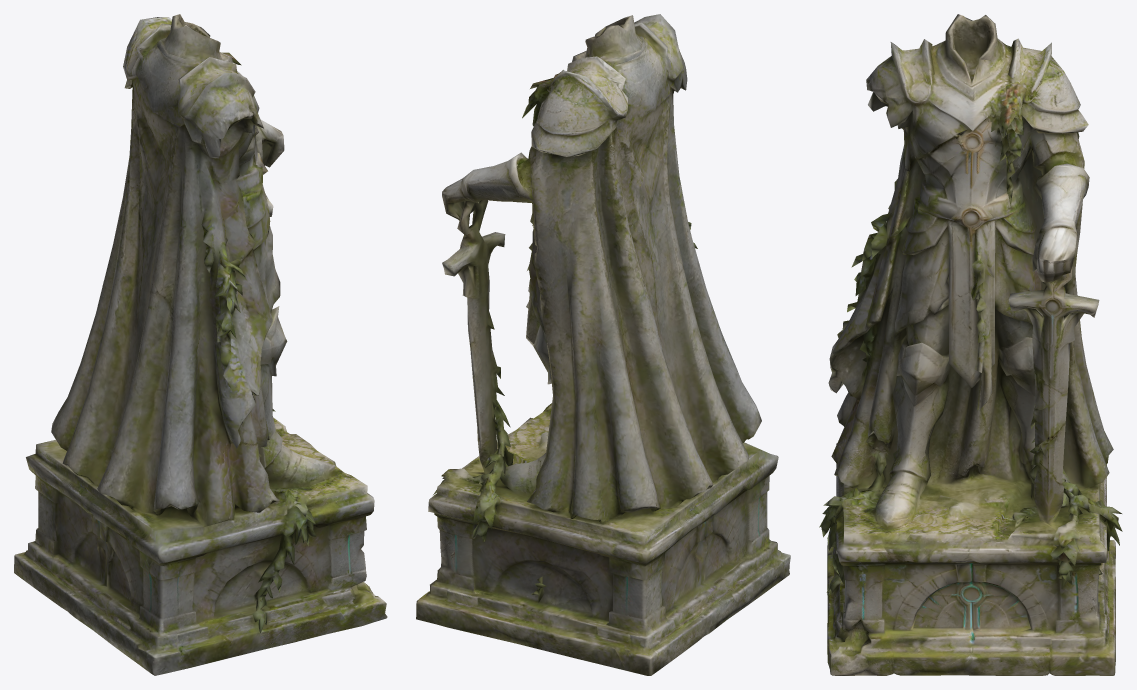
File: env_statue.glb
The picture shows the model from 3 angles, left to right: view 1: azimuth 30°, elevation 25°; view 2: azimuth 150°, elevation 25°; view 3: azimuth 270°, elevation 25°; orthographic projection.
Visible parts, largest first — view 1: tripo_node_df72a3db-abc4-4210-9973-f90fb8e8b095; view 2: tripo_node_df72a3db-abc4-4210-9973-f90fb8e8b095; view 3: tripo_node_df72a3db-abc4-4210-9973-f90fb8e8b095.
Boxes of the visible parts, x1,y1,x2,y2 form: tripo_node_df72a3db-abc4-4210-9973-f90fb8e8b095: (14, 14, 387, 675); tripo_node_df72a3db-abc4-4210-9973-f90fb8e8b095: (416, 14, 790, 675); tripo_node_df72a3db-abc4-4210-9973-f90fb8e8b095: (819, 14, 1122, 675).
Bounding box in the file's own units: 0.4356 × 1 × 0.4646.
Materials: 1 (1 with a texture image).
